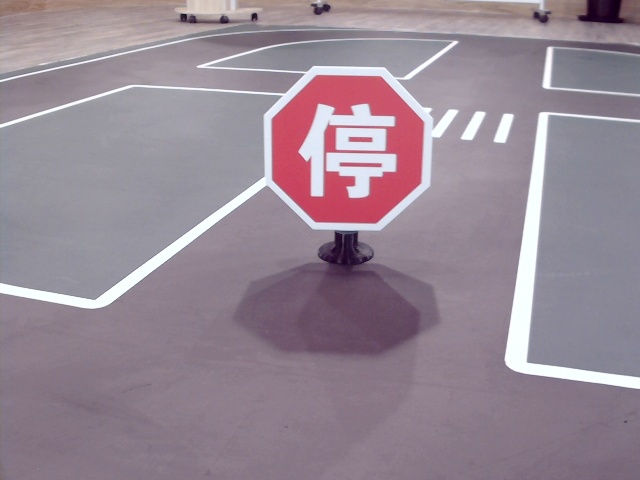stop: (294, 99, 399, 198)
